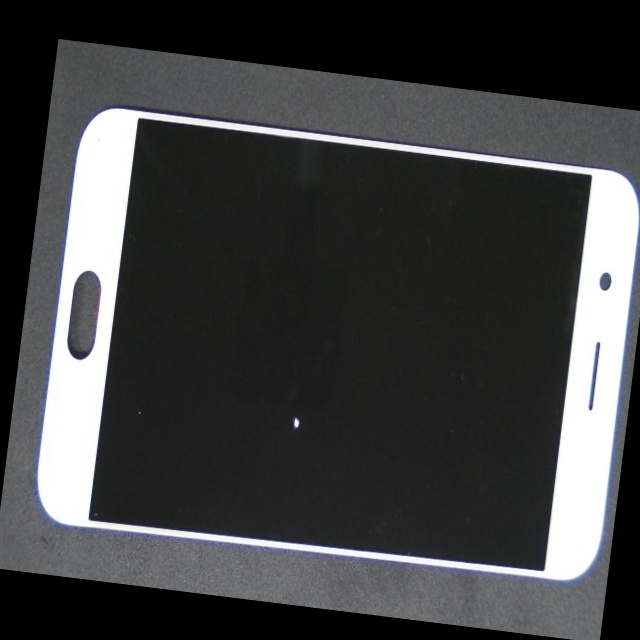stain: (157, 239, 473, 602)
